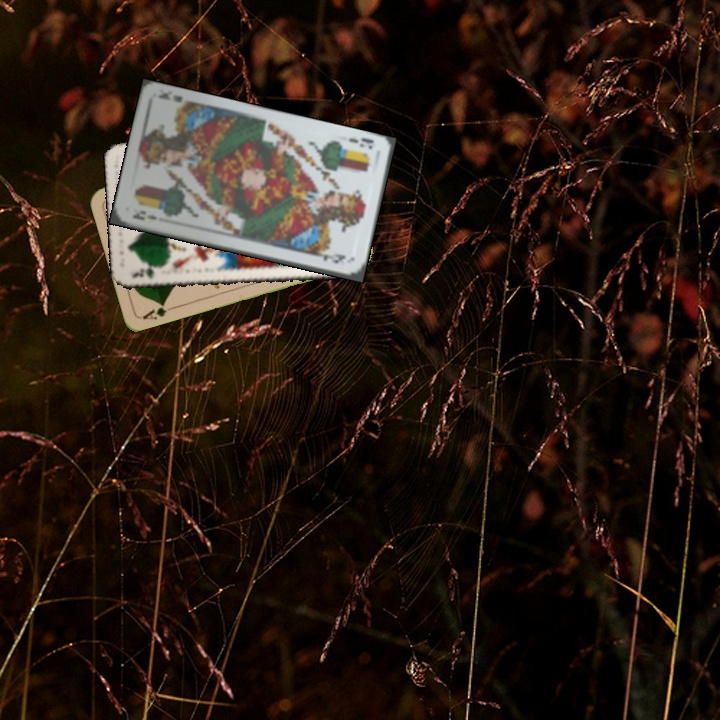EK: (344, 133, 377, 152), (128, 206, 160, 223)
GA: (138, 298, 178, 322)
GK: (127, 265, 156, 281)
